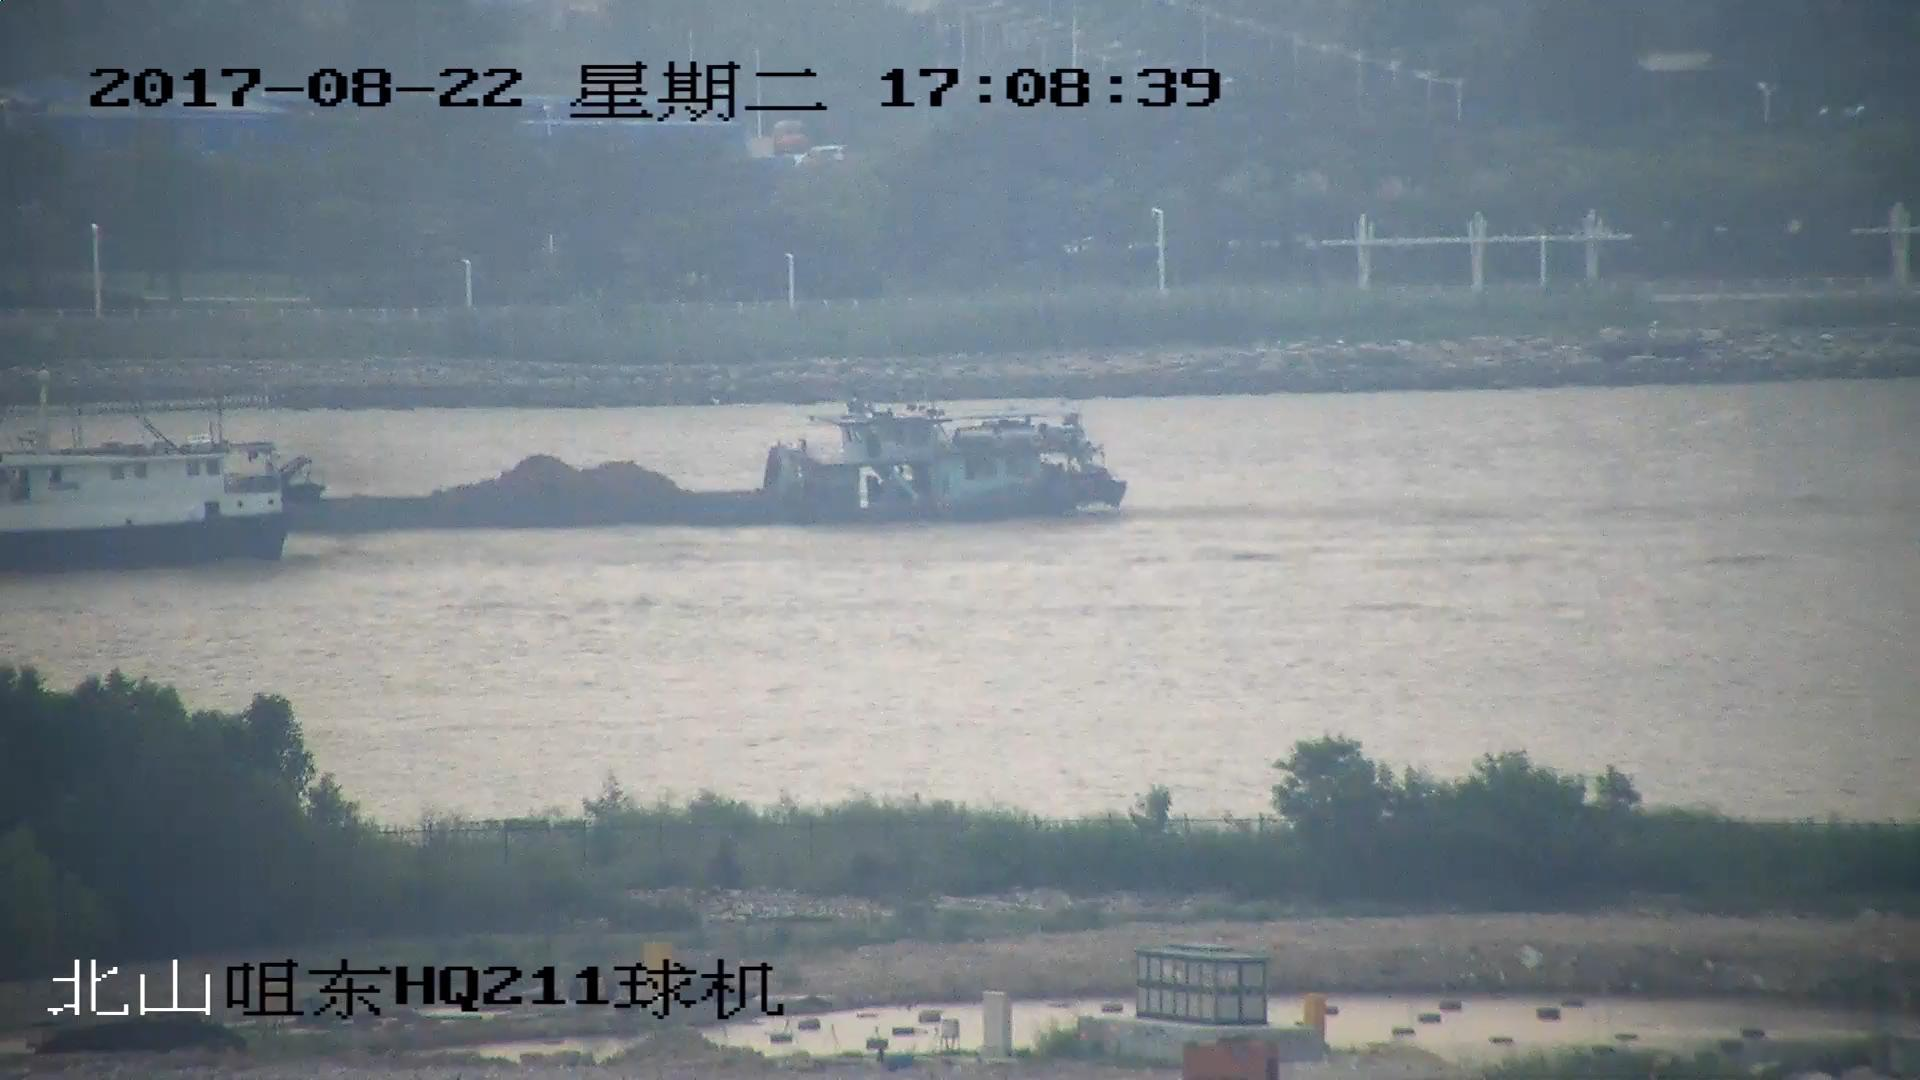Ship: (193, 402, 1126, 521), (3, 442, 295, 566)
